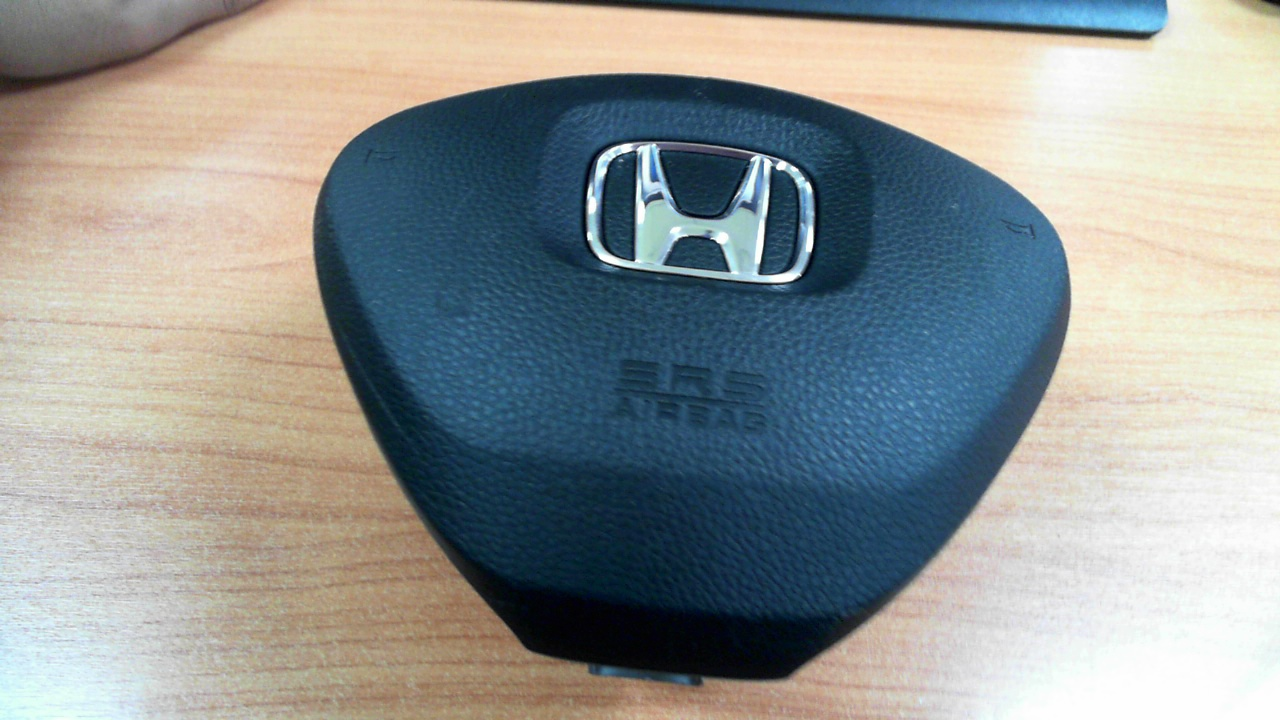Airbag: (312, 71, 1073, 687)
Honda: (586, 141, 815, 283)
